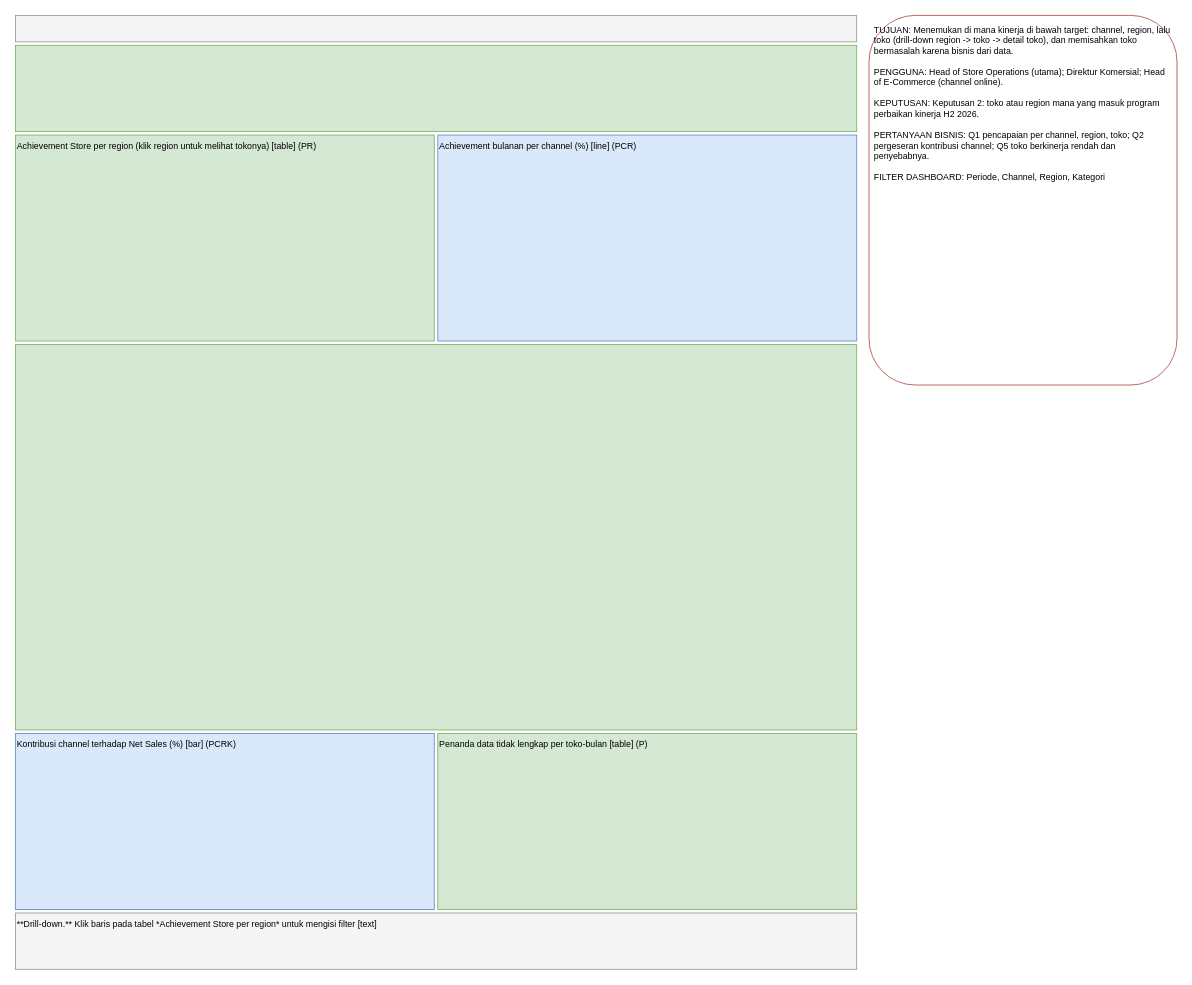
Image size: 1192x985. Some labels were removed from this diagram. Here are the shapes that lost their labels. From the top down, the centre of each, then its label:
At point 436,28: "Channel, Region & Store: di mana kinerja berada di bawah target? [heading]".
At point 436,88: "Kesegaran data dan status sinkronisasi POS [table]".
At point 436,537: "Kinerja per toko (klik toko untuk detail) [table] (PR)".
